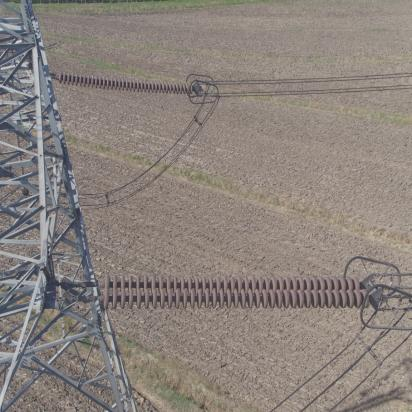insulator: (93, 273, 374, 314), (58, 71, 192, 98)
